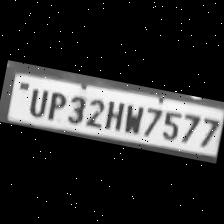2: (82, 94, 108, 130)
3: (62, 90, 88, 126)
5: (156, 106, 184, 142)
7: (192, 113, 219, 150), (139, 103, 164, 138), (176, 110, 200, 146)
H: (101, 97, 126, 132)
P: (42, 88, 68, 122)
U: (23, 83, 50, 118)
W: (118, 99, 146, 136)
